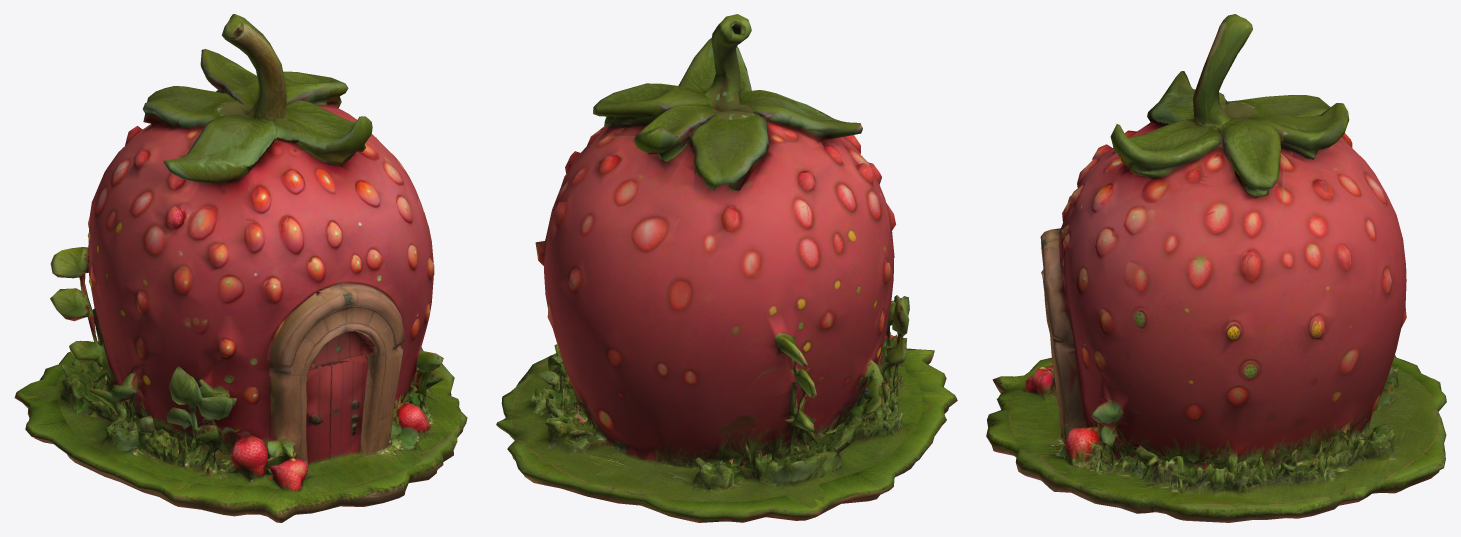
Rendered from Meshy_AI_Generate_a_vibrant_ca_1229170849_texture.fbx.
3 renders of one model, left to right at view 1: azimuth 30°, elevation 25°; view 2: azimuth 150°, elevation 25°; view 3: azimuth 270°, elevation 25°, orthographic. The views are drawn at different scales.
Parts seen in each view (by area): view 1: Mesh_0; view 2: Mesh_0; view 3: Mesh_0.
Part boxes in pixels (x1,y1,x2,y2): Mesh_0: (14, 14, 467, 522); Mesh_0: (496, 14, 957, 522); Mesh_0: (986, 14, 1446, 522).
Bounding box in the file's own units: 194 × 200 × 201.
Materials: 1 (1 with a texture image).
